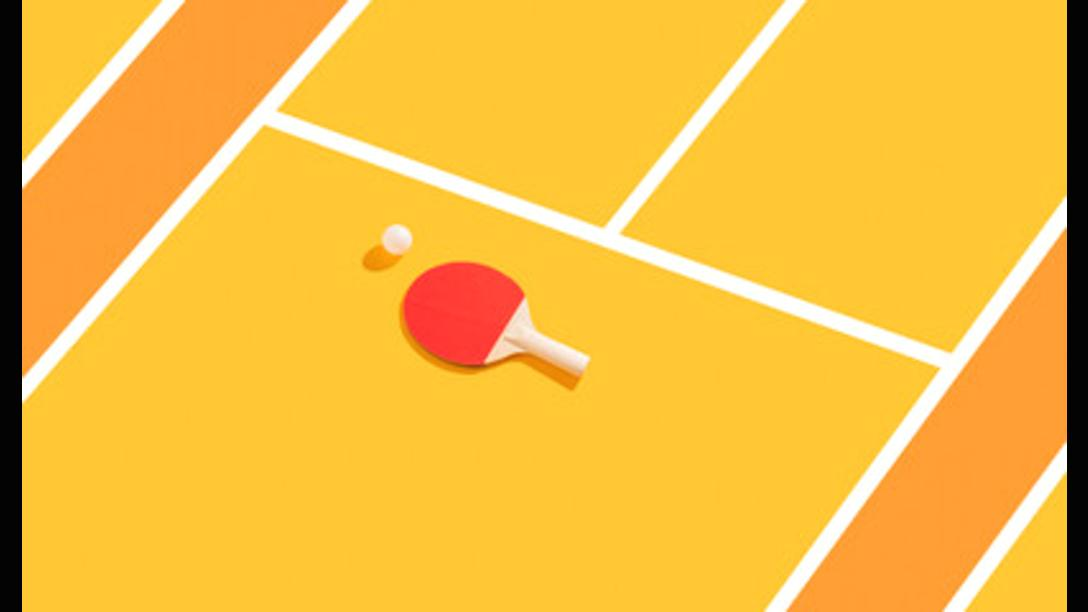Table-Tennis-Ball: (384, 225, 410, 253)
